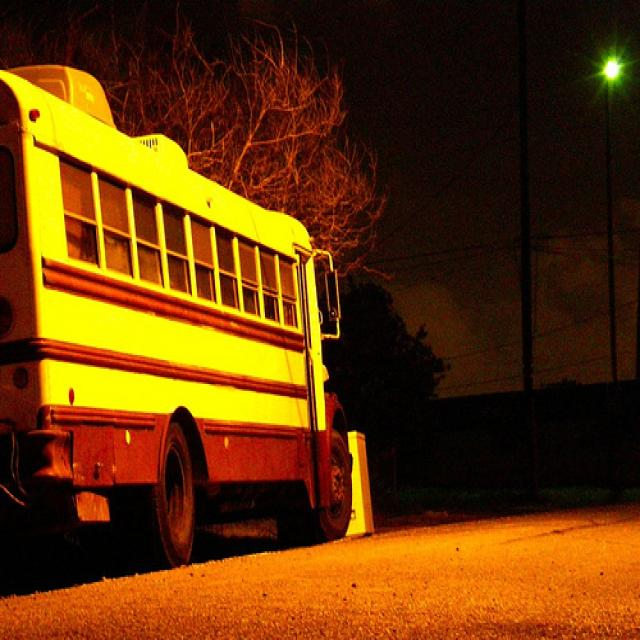Bus: (0, 84, 353, 602)
